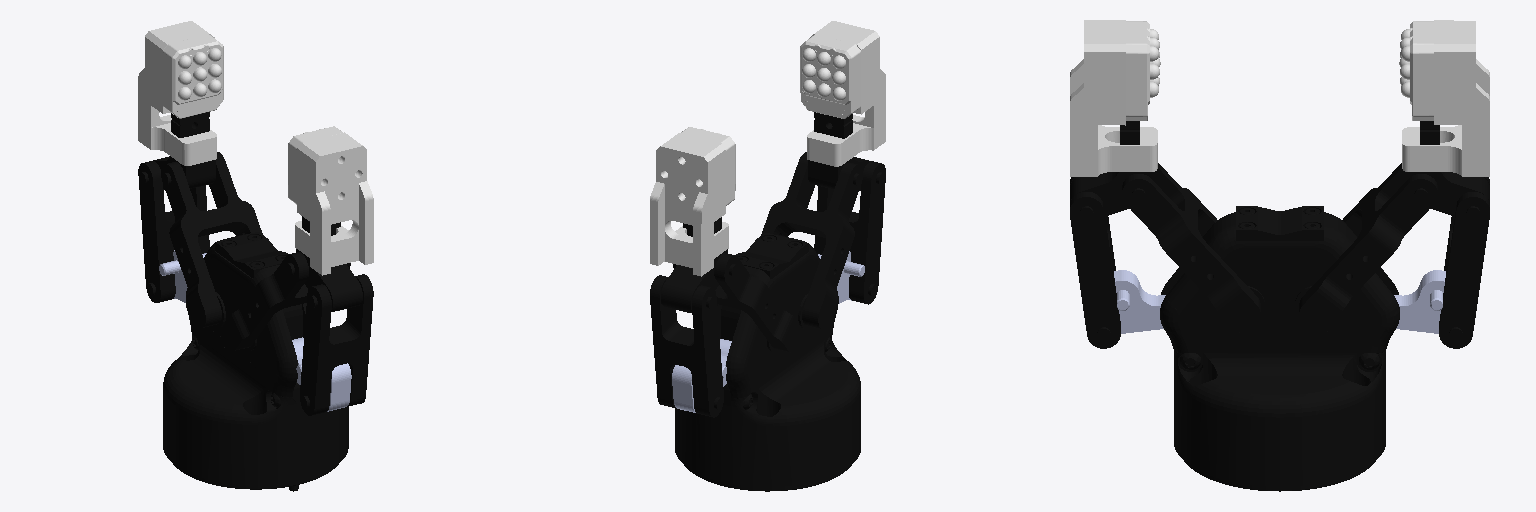
URDF robot description (robotiq_arg2f_85_model):
<?xml version="1.0" ?>
<!-- =================================================================================== -->
<!-- |    This document was autogenerated by xacro from robotiq_2f_85_macro.xacro      | -->
<!-- |    EDITING THIS FILE BY HAND IS NOT RECOMMENDED                                 | -->
<!-- =================================================================================== -->
<robot name="robotiq_arg2f_85_model">
    <link name="world">
      <inertial>
      <origin rpy="0 0 0" xyz="0 0 0"/>
      <mass value="0"/>
      <inertia ixx="0" ixy="0" ixz="0" iyy="0" iyz="0" izz="0"/>
    </inertial>
   </link>
     <link name="forward_link">
      <inertial>
      <origin rpy="0 0 0" xyz="0 0 0"/>
      <mass value="0"/>
      <inertia ixx="0" ixy="0" ixz="0" iyy="0" iyz="0" izz="0"/>
    </inertial>
   </link>
  <link name="robotiq_arg2f_85_base_link">
    <inertial>
      <origin rpy="0 0 0" xyz="8.625E-08 -4.6583E-06 0.03145"/>
      <mass value="0.22652"/>
      <inertia ixx="0.00020005" ixy="-4.2442E-10" ixz="-2.9069E-10" iyy="0.00017832" iyz="-3.4402E-08" izz="0.00013478"/>
    </inertial>
    <visual>
      <origin rpy="0 0 0" xyz="0 0 0"/>
      <geometry>
        <mesh filename="visual/robotiq_arg2f_85_base_link.obj"/>
      </geometry>
      <material name="">
        <color rgba="0.1 0.1 0.1 1"/>
      </material>
    </visual>
    <collision>
      <origin rpy="0 0 0" xyz="0 0 0"/>
      <geometry>
        <mesh filename="collision/robotiq_arg2f_85_base_link_vhacd.obj"/>
      </geometry>
    </collision>
  </link>
  <gazebo reference="robotiq_arg2f_85_base_link">
    <material>Gazebo/Black</material>
  </gazebo>
  <link name="left_outer_knuckle">
    <inertial>
      <origin rpy="0 0 0" xyz="-0.000200000000003065 0.0199435877845359 0.0292245259211331"/>
      <mass value="0.00853198276973456"/>
      <inertia ixx="2.89328108496468E-06" ixy="-1.57935047237397E-19" ixz="-1.93980378593255E-19" iyy="1.86719750325683E-06" iyz="-1.21858577871576E-06" izz="1.21905238907251E-06"/>
    </inertial>
    <visual>
      <origin rpy="0 0 0" xyz="0 0 0"/>
      <geometry>
        <mesh filename="visual/robotiq_arg2f_85_outer_knuckle.obj" scale="1 1 1"/>
      </geometry>
      <material name="">
        <color rgba="0.792156862745098 0.819607843137255 0.933333333333333 1"/>
      </material>
    </visual>
    <collision>
      <origin rpy="0 0 0" xyz="0 0 0"/>
      <geometry>
        <mesh filename="collision/robotiq_arg2f_85_outer_knuckle_vhacd.obj" scale="1 1 1"/>
      </geometry>
    </collision>
  </link>
  <link name="left_outer_finger">
    <inertial>
      <origin rpy="0 0 0" xyz="0.00030115855001899 0.0373907951953854 -0.0208027427000385"/>
      <mass value="0.022614240507152"/>
      <inertia ixx="1.52518312458174E-05" ixy="9.76583423954399E-10" ixz="-5.43838577022588E-10" iyy="6.17694243867776E-06" iyz="6.78636130740228E-06" izz="1.16494917907219E-05"/>
    </inertial>
    <visual>
      <origin rpy="0 0 0" xyz="0 0 0"/>
      <geometry>
        <mesh filename="visual/robotiq_arg2f_85_outer_finger.obj" scale="1 1 1"/>
      </geometry>
      <material name="">
        <color rgba="0.1 0.1 0.1 1"/>
      </material>
    </visual>
    <collision>
      <origin rpy="0 0 0" xyz="0 0 0"/>
      <geometry>
        <mesh filename="collision/robotiq_arg2f_85_outer_finger_vhacd.obj" scale="1 1 1"/>
      </geometry>
    </collision>
  </link>
  <link name="left_inner_finger">
    <inertial>
      <origin rpy="0 0 0" xyz="0.000299999999999317 0.0160078233491243 -0.0136945669206257"/>
      <mass value="0.0104003125914103"/>
      <inertia ixx="2.71909453810972E-06" ixy="1.35402465472579E-21" ixz="-7.1817349065269E-22" iyy="7.69100314106116E-07" iyz="6.74715432769696E-07" izz="2.30315190420171E-06"/>
    </inertial>
    <visual>
      <origin rpy="0 0 0" xyz="0 0 0"/>
      <geometry>
        <mesh filename="visual/robotiq_arg2f_85_inner_finger.obj" scale="1 1 1"/>
      </geometry>
      <material name="">
        <color rgba="0.1 0.1 0.1 1"/>
      </material>
    </visual>
    <collision>
      <origin rpy="0 0 0" xyz="0 0 0"/>
      <geometry>
        <mesh filename="collision/robotiq_arg2f_85_inner_finger_vhacd.obj" scale="1 1 1"/>
      </geometry>
    </collision>
  </link>
  <link name="left_contactile_holder">
      <inertial>
      <origin rpy="0 0 0" xyz="0 0 0"/>
      <mass value="0.01"/>
      <inertia ixx="0" ixy="0" ixz="0" iyy="0" iyz="0" izz="0"/>
    </inertial>
    <visual>
      <origin rpy="0 0 0" xyz="0 0 0"/>
      <geometry>
        <mesh filename="visual/contactileRobotiq2f-85_v2.obj" scale="1 1 1"/>
      </geometry>
      <material name="">
        <color rgba="0.9 0.9 0.9 1"/>
      </material>
    </visual>
    <collision>
      <origin rpy="0 0 0" xyz="0 0 0"/>
      <geometry>
        <mesh filename="collision/contactileRobotiq2f-85_v2_vhacd.obj" scale="1 1 1"/>
      </geometry>
      <material name="">
        <color rgba="0.9 0.0 0.0 1"/>
      </material>
    </collision>
  </link>
  <link name="left_contactile">
      <inertial>
      <origin rpy="0 0 0" xyz="0 0 0"/>
      <mass value="0.01"/>
      <inertia ixx="0" ixy="0" ixz="0" iyy="0" iyz="0" izz="0"/>
    </inertial>
    <visual>
      <origin rpy="0 0 0" xyz="0 0 0"/>
      <geometry>
        <mesh filename="visual/contactile.obj" scale="1 1 1"/>
      </geometry>
      <material name="">
        <color rgba="0.9 0.9 0.9 1"/>
      </material>
    </visual>
    <collision>
      <origin rpy="0 0 0" xyz="0 0 0"/>
      <geometry>
        <mesh filename="collision/contactile_vhacd.obj" scale="1 1 1"/>
      </geometry>
      <material name="">
        <color rgba="0.9 0 0 1"/>
      </material>
    </collision>
  </link>
  <link name="left_inner_knuckle">
    <inertial>
      <origin rpy="0 0 0" xyz="0.000123011831763771 0.0507850843201817 0.00103968640075166"/>
      <mass value="0.0271177346495152"/>
      <inertia ixx="2.61910379223783E-05" ixy="-2.43616858946494E-07" ixz="-6.37789906117123E-09" iyy="2.8270243746167E-06" iyz="-5.37200748039765E-07" izz="2.83695868220296E-05"/>
    </inertial>
    <visual>
      <origin rpy="0 0 0" xyz="0 0 0"/>
      <geometry>
        <mesh filename="visual/robotiq_arg2f_85_inner_knuckle.obj" scale="1 1 1"/>
      </geometry>
      <material name="">
        <color rgba="0.1 0.1 0.1 1"/>
      </material>
    </visual>
    <collision>
      <origin rpy="0 0 0" xyz="0 0 0"/>
      <geometry>
        <mesh filename="collision/robotiq_arg2f_85_inner_knuckle_vhacd.obj" scale="1 1 1"/>
      </geometry>
    </collision>
  </link>
  <link name="right_outer_knuckle">
    <inertial>
      <origin rpy="0 0 0" xyz="-0.000200000000003065 0.0199435877845359 0.0292245259211331"/>
      <mass value="0.00853198276973456"/>
      <inertia ixx="2.89328108496468E-06" ixy="-1.57935047237397E-19" ixz="-1.93980378593255E-19" iyy="1.86719750325683E-06" iyz="-1.21858577871576E-06" izz="1.21905238907251E-06"/>
    </inertial>
    <visual>
      <origin rpy="0 0 0" xyz="0 0 0"/>
      <geometry>
        <mesh filename="visual/robotiq_arg2f_85_outer_knuckle.obj" scale="1 1 1"/>
      </geometry>
      <material name="">
        <color rgba="0.792156862745098 0.819607843137255 0.933333333333333 1"/>
      </material>
    </visual>
    <collision>
      <origin rpy="0 0 0" xyz="0 0 0"/>
      <geometry>
        <mesh filename="collision/robotiq_arg2f_85_outer_knuckle_vhacd.obj" scale="1 1 1"/>
      </geometry>
    </collision>
  </link>
  <link name="right_outer_finger">
    <inertial>
      <origin rpy="0 0 0" xyz="0.00030115855001899 0.0373907951953854 -0.0208027427000385"/>
      <mass value="0.022614240507152"/>
      <inertia ixx="1.52518312458174E-05" ixy="9.76583423954399E-10" ixz="-5.43838577022588E-10" iyy="6.17694243867776E-06" iyz="6.78636130740228E-06" izz="1.16494917907219E-05"/>
    </inertial>
    <visual>
      <origin rpy="0 0 0" xyz="0 0 0"/>
      <geometry>
        <mesh filename="visual/robotiq_arg2f_85_outer_finger.obj" scale="1 1 1"/>
      </geometry>
      <material name="">
        <color rgba="0.1 0.1 0.1 1"/>
      </material>
    </visual>
    <collision>
      <origin rpy="0 0 0" xyz="0 0 0"/>
      <geometry>
        <mesh filename="collision/robotiq_arg2f_85_outer_finger_vhacd.obj" scale="1 1 1"/>
      </geometry>
    </collision>
  </link>
  <link name="right_inner_finger">
    <inertial>
      <origin rpy="0 0 0" xyz="0.000299999999999317 0.0160078233491243 -0.0136945669206257"/>
      <mass value="0.0104003125914103"/>
      <inertia ixx="2.71909453810972E-06" ixy="1.35402465472579E-21" ixz="-7.1817349065269E-22" iyy="7.69100314106116E-07" iyz="6.74715432769696E-07" izz="2.30315190420171E-06"/>
    </inertial>
    <visual>
      <origin rpy="0 0 0" xyz="0 0 0"/>
      <geometry>
        <mesh filename="visual/robotiq_arg2f_85_inner_finger.obj" scale="1 1 1"/>
      </geometry>
      <material name="">
        <color rgba="0.1 0.1 0.1 1"/>
      </material>
    </visual>
    <collision>
      <origin rpy="0 0 0" xyz="0 0 0"/>
      <geometry>
        <mesh filename="collision/robotiq_arg2f_85_inner_finger_vhacd.obj" scale="1 1 1"/>
      </geometry>
    </collision>
  </link>
  <link name="right_contactile_holder">
        <inertial>
      <origin rpy="0 0 0" xyz="0 0 0"/>
      <mass value="0.01"/>
      <inertia ixx="0" ixy="0" ixz="0" iyy="0" iyz="0" izz="0"/>
    </inertial>
    <visual>
      <origin rpy="0 0 0" xyz="0 0 0"/>
      <geometry>
        <mesh filename="visual/contactileRobotiq2f-85_v2.obj" scale="1 1 1"/>
      </geometry>
      <material name="">
        <color rgba="0.9 0.9 0.9 1"/>
      </material>
    </visual>
    <collision>
      <origin rpy="0 0 0" xyz="0 0 0"/>
      <geometry>
        <mesh filename="collision/contactileRobotiq2f-85_v2_vhacd.obj" scale="1 1 1"/>
      </geometry>
      <material name="">
        <color rgba="0.9 0.0 0.0 1"/>
      </material>
    </collision>
  </link>
  <link name="right_contactile">
    <inertial>
      <origin rpy="0 0 0" xyz="0 0 0"/>
      <mass value="0.01"/>
      <inertia ixx="0" ixy="0" ixz="0" iyy="0" iyz="0" izz="0"/>
    </inertial>
    <visual>
      <origin rpy="0 0 0" xyz="0 0 0"/>
      <geometry>
        <mesh filename="visual/contactile.obj" scale="1 1 1"/>
      </geometry>
      <material name="">
        <color rgba="0.9 0.9 0.9 1"/>
      </material>
    </visual>
    <collision>
      <origin rpy="0 0 0" xyz="0 0 0"/>
      <geometry>
        <mesh filename="collision/contactile_vhacd.obj" scale="1 1 1"/>
      </geometry>
      <material name="">
        <color rgba="0.9 0 0 1"/>
      </material>
    </collision>
  </link>
  <link name="right_inner_knuckle">
    <inertial>
      <origin rpy="0 0 0" xyz="0.000123011831763771 0.0507850843201817 0.00103968640075166"/>
      <mass value="0.0271177346495152"/>
      <inertia ixx="2.61910379223783E-05" ixy="-2.43616858946494E-07" ixz="-6.37789906117123E-09" iyy="2.8270243746167E-06" iyz="-5.37200748039765E-07" izz="2.83695868220296E-05"/>
    </inertial>
    <visual>
      <origin rpy="0 0 0" xyz="0 0 0"/>
      <geometry>
        <mesh filename="visual/robotiq_arg2f_85_inner_knuckle.obj" scale="1 1 1"/>
      </geometry>
      <material name="">
        <color rgba="0.1 0.1 0.1 1"/>
      </material>
    </visual>
    <collision>
      <origin rpy="0 0 0" xyz="0 0 0"/>
      <geometry>
        <mesh filename="collision/robotiq_arg2f_85_inner_knuckle_vhacd.obj" scale="1 1 1"/>
      </geometry>
    </collision>
  </link>
  <joint name="finger_joint" type="revolute">
    <origin rpy="0 0 3.141592653589793" xyz="0 -0.0306011 0.054904"/>
    <parent link="robotiq_arg2f_85_base_link"/>
    <child link="left_outer_knuckle"/>
    <axis xyz="1 0 0"/>
    <limit effort="1000" lower="0" upper="0.8" velocity="2.0"/>
  </joint>
  <joint name="left_outer_finger_joint" type="fixed">
    <origin rpy="0 0 0" xyz="0 0.0315 -0.0041"/>
    <parent link="left_outer_knuckle"/>
    <child link="left_outer_finger"/>
    <axis xyz="1 0 0"/>
  </joint>
  <joint name="left_inner_knuckle_joint" type="revolute">
    <!-- <origin xyz="0 ${reflect * -0.0127} 0.06142" rpy="${pi / 2 + .725} 0 ${(reflect - 1) * pi / 2}" /> -->
    <origin rpy="0 0 3.141592653589793" xyz="0 -0.0127 0.06142"/>
    <parent link="robotiq_arg2f_85_base_link"/>
    <child link="left_inner_knuckle"/>
    <axis xyz="1 0 0"/>
    <limit effort="1000" lower="0" upper="0.8757" velocity="2.0"/>
    <mimic joint="finger_joint" multiplier="1" offset="0"/>
  </joint>
  <joint name="left_inner_finger_joint" type="revolute">
    <origin rpy="0 0 0" xyz="0 0.0061 0.0471"/>
    <parent link="left_outer_finger"/>
    <child link="left_inner_finger"/>
    <axis xyz="1 0 0"/>
    <limit effort="1000" lower="-0.8757" upper="0.8757" velocity="2.0"/>
    <mimic joint="finger_joint" multiplier="-1" offset="0"/>
  </joint>
  <joint name="left_contactile_holder_joint" type="fixed">
    <origin rpy="-1.57 1.57 0" xyz="0 -0.004 0.05242"/>
    <parent link="left_inner_finger"/>
    <child link="left_contactile_holder"/>
    <axis xyz="0 0 1"/>
  </joint>
  <joint name="left_contactile_joint" type="fixed">
    <origin rpy="1.57 3.14 -1.57" xyz="0 0 -0.0155"/>
    <parent link="left_contactile_holder"/>
    <child link="left_contactile"/>
    <axis xyz="0 0 1"/>
  </joint>
  <joint name="right_outer_knuckle_joint" type="revolute">
    <origin rpy="0 0 0" xyz="0 0.0306011 0.054904"/>
    <parent link="robotiq_arg2f_85_base_link"/>
    <child link="right_outer_knuckle"/>
    <axis xyz="1 0 0"/>
    <limit effort="1000" lower="0" upper="0.81" velocity="2.0"/>
    <mimic joint="finger_joint" multiplier="1" offset="0"/>
  </joint>
  <joint name="right_outer_finger_joint" type="fixed">
    <origin rpy="0 0 0" xyz="0 0.0315 -0.0041"/>
    <parent link="right_outer_knuckle"/>
    <child link="right_outer_finger"/>
    <axis xyz="1 0 0"/>
  </joint>
  <joint name="right_inner_knuckle_joint" type="revolute">
    <!-- <origin xyz="0 ${reflect * -0.0127} 0.06142" rpy="${pi / 2 + .725} 0 ${(reflect - 1) * pi / 2}" /> -->
    <origin rpy="0 0 0.0" xyz="0 0.0127 0.06142"/>
    <parent link="robotiq_arg2f_85_base_link"/>
    <child link="right_inner_knuckle"/>
    <axis xyz="1 0 0"/>
    <limit effort="1000" lower="0" upper="0.8757" velocity="2.0"/>
    <mimic joint="finger_joint" multiplier="1" offset="0"/>
  </joint>
  <joint name="right_inner_finger_joint" type="revolute">
    <origin rpy="0 0 0" xyz="0 0.0061 0.0471"/>
    <parent link="right_outer_finger"/>
    <child link="right_inner_finger"/>
    <axis xyz="1 0 0"/>
    <limit effort="1000" lower="-0.8757" upper="0.8757" velocity="2.0"/>
    <mimic joint="finger_joint" multiplier="-1" offset="0"/>
  </joint>
  <joint name="right_contactile_holder_joint" type="fixed">
    <origin rpy="-1.57 1.57 0" xyz="0 -0.004 0.05242"/>
    <parent link="right_inner_finger"/>
    <child link="right_contactile_holder"/>
    <axis xyz="0 0 1"/>
  </joint>
  <joint name="right_contactile_joint" type="fixed">
    <origin rpy="1.57 3.14 -1.57" xyz="0 0 -0.0155"/>
    <parent link="right_contactile_holder"/>
    <child link="right_contactile"/>
    <axis xyz="0 0 1"/>
  </joint>
  <joint name="rotation_joint" type="revolute">
    <origin rpy="0 0 0" xyz="0 0 0"/>
    <parent link="world"/>
    <child link="forward_link"/>
    <axis xyz="0 0 1"/>
    <limit effort="1000" lower="-3.14" upper="3.14"/>
  </joint>
  <joint name="forward_joint" type="prismatic">
    <origin rpy="0 0 0" xyz="0 0 0"/>
    <parent link="forward_link"/>
    <child link="robotiq_arg2f_85_base_link"/>
    <axis xyz="0 0 1"/>
    <limit effort="1000" lower="-10" upper="10"/>
  </joint>
</robot>

--- Facts derived from the render (not from the file) ---
3 views of the same robot in one strip: view 1: azimuth 30°, elevation 25°; view 2: azimuth 150°, elevation 25°; view 3: azimuth 270°, elevation 25° (orthographic).
Robot: robotiq_arg2f_85_model — 15 links, 14 joints (7 revolute, 1 prismatic, 6 fixed); root link world; default pose: every joint at zero.
Visible links, largest first — view 1: robotiq_arg2f_85_base_link, left_contactile_holder, right_inner_knuckle, left_outer_finger, right_contactile_holder, right_contactile, right_outer_finger, left_inner_knuckle, left_inner_finger, right_inner_finger, left_outer_knuckle, left_contactile (+1 smaller); view 2: robotiq_arg2f_85_base_link, right_contactile_holder, left_inner_knuckle, right_outer_finger, left_contactile_holder, left_contactile, left_outer_finger, right_inner_knuckle, right_inner_finger, left_inner_finger, right_outer_knuckle, right_contactile (+1 smaller); view 3: robotiq_arg2f_85_base_link, left_contactile_holder, right_contactile_holder, left_inner_knuckle, right_inner_knuckle, left_outer_finger, right_outer_finger, left_contactile, right_contactile, left_outer_knuckle, right_outer_knuckle, left_inner_finger (+1 smaller).
Link boxes in pixels (x1=…): robotiq_arg2f_85_base_link: x1=163, y1=232, x2=348, y2=491; left_contactile_holder: x1=295, y1=132, x2=373, y2=275; right_inner_knuckle: x1=161, y1=152, x2=262, y2=327; left_outer_finger: x1=300, y1=274, x2=373, y2=415; right_contactile_holder: x1=138, y1=21, x2=216, y2=165; right_contactile: x1=163, y1=35, x2=223, y2=118; right_outer_finger: x1=138, y1=161, x2=209, y2=302; left_inner_knuckle: x1=222, y1=252, x2=350, y2=350; left_inner_finger: x1=296, y1=216, x2=362, y2=311; right_inner_finger: x1=153, y1=112, x2=215, y2=189; left_outer_knuckle: x1=292, y1=337, x2=351, y2=411; left_contactile: x1=288, y1=126, x2=342, y2=204; robotiq_arg2f_85_base_link: x1=675, y1=233, x2=860, y2=491; right_contactile_holder: x1=650, y1=133, x2=728, y2=276; left_inner_knuckle: x1=761, y1=152, x2=862, y2=328; right_outer_finger: x1=650, y1=275, x2=723, y2=417; left_contactile_holder: x1=807, y1=21, x2=885, y2=166; left_contactile: x1=800, y1=35, x2=860, y2=118; left_outer_finger: x1=814, y1=161, x2=885, y2=304; right_inner_knuckle: x1=673, y1=253, x2=801, y2=352; right_inner_finger: x1=661, y1=217, x2=727, y2=312; left_inner_finger: x1=808, y1=112, x2=869, y2=190; right_outer_knuckle: x1=672, y1=339, x2=731, y2=412; right_contactile: x1=681, y1=127, x2=735, y2=205; robotiq_arg2f_85_base_link: x1=1160, y1=206, x2=1399, y2=491; left_contactile_holder: x1=1070, y1=20, x2=1157, y2=176; right_contactile_holder: x1=1402, y1=20, x2=1489, y2=176; left_inner_knuckle: x1=1122, y1=163, x2=1260, y2=330; right_inner_knuckle: x1=1299, y1=163, x2=1437, y2=330; left_outer_finger: x1=1070, y1=177, x2=1120, y2=348; right_outer_finger: x1=1439, y1=177, x2=1489, y2=348; left_contactile: x1=1126, y1=21, x2=1160, y2=120; right_contactile: x1=1399, y1=21, x2=1433, y2=120; left_outer_knuckle: x1=1114, y1=270, x2=1165, y2=333; right_outer_knuckle: x1=1394, y1=270, x2=1445, y2=333; left_inner_finger: x1=1070, y1=121, x2=1153, y2=216.
Size in the robot's own frame: 0.075 by 0.1484 by 0.1663 metres.
13 mesh visuals loaded from 7 distinct referenced files (7 OBJ).
